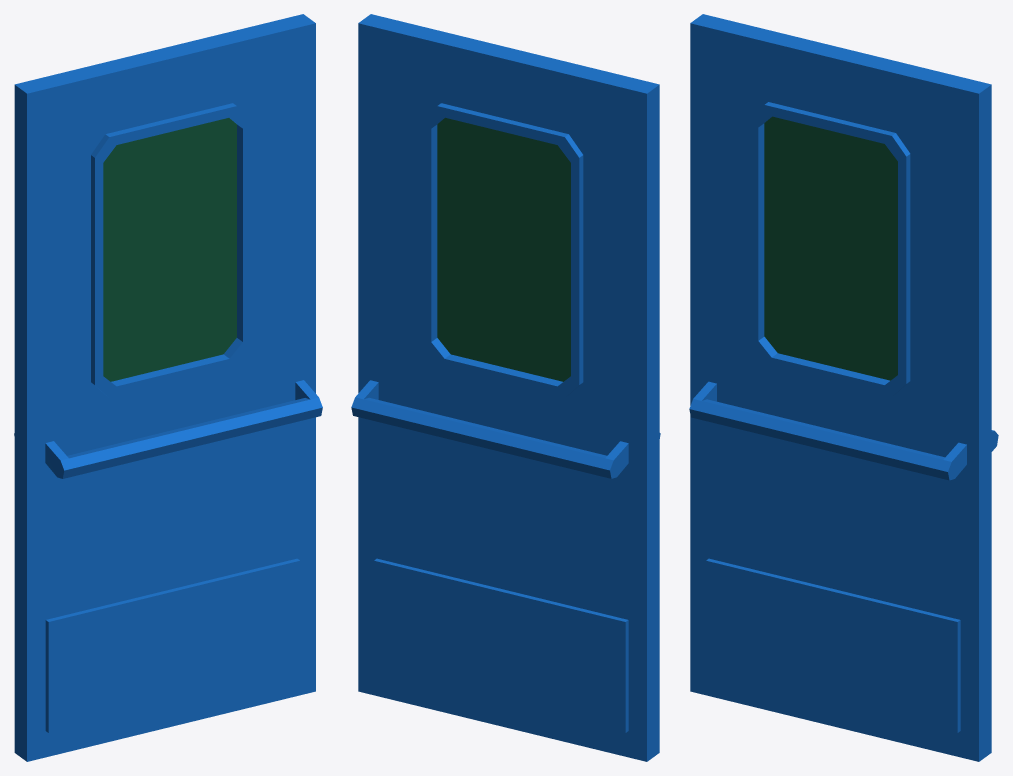
File: T_door3.fbx
3 views of the same model, side by side, from view 1: azimuth 30°, elevation 25°; view 2: azimuth 150°, elevation 25°; view 3: azimuth 330°, elevation 25° (orthographic).
Visible parts, largest first — view 1: door3; view 2: door3; view 3: door3.
Part boxes in pixels (x1,y1,x2,y2): door3: (14, 14, 322, 761); door3: (351, 14, 660, 761); door3: (689, 14, 998, 761).
Size of the model in its own units: 87.82 by 194 by 26.57.
